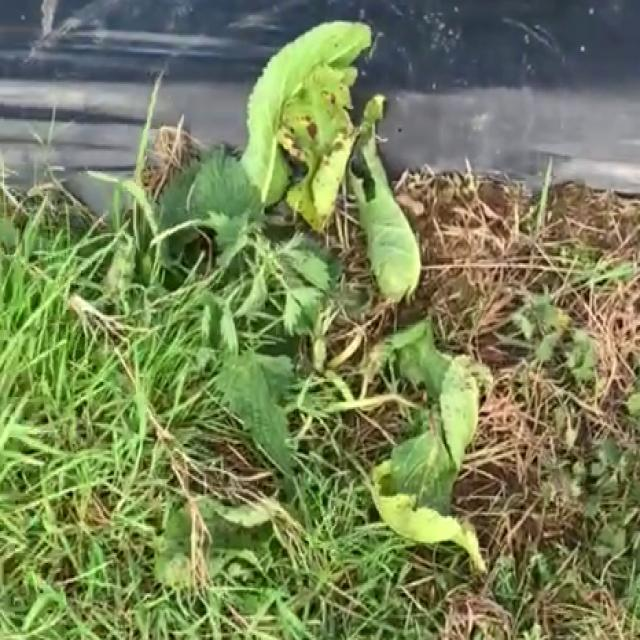organic waste: (179, 0, 401, 230)
